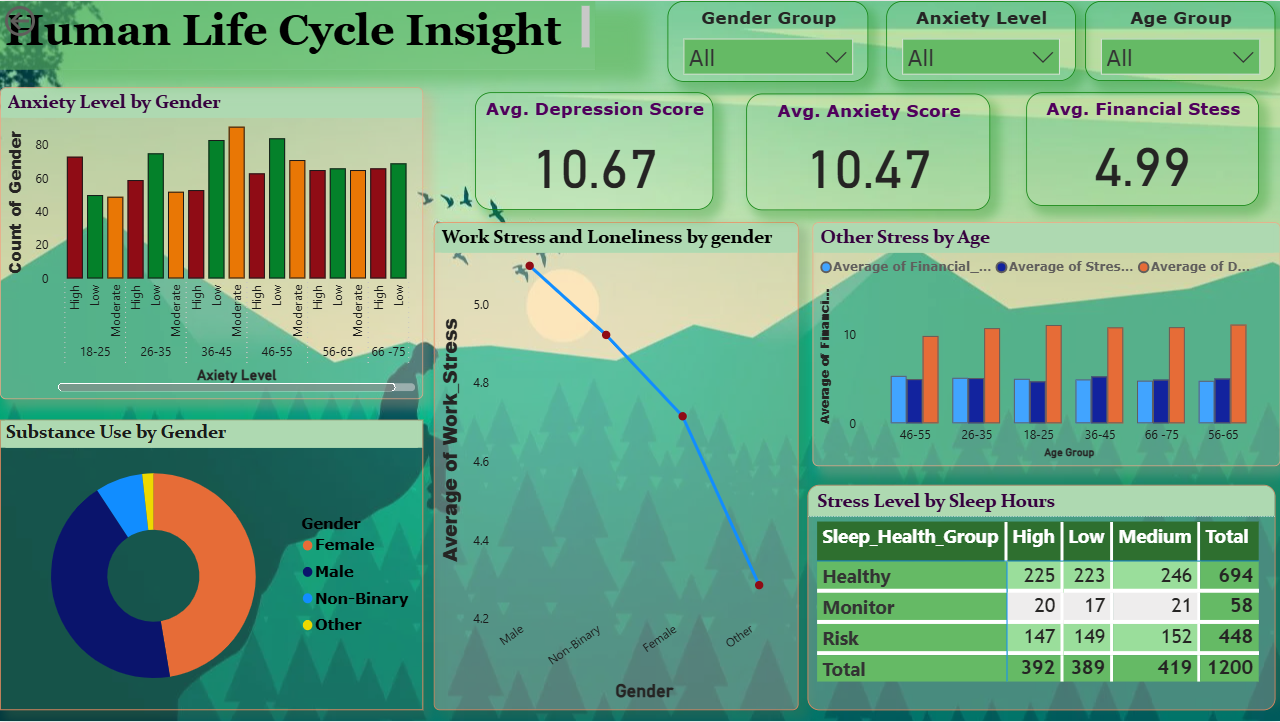

The page's visual inventory and layout, read from the dashboard file:
{"tool":"powerbi","page":{"name":"Overview","canvas":[1280,720],"ordinal":0},"visuals":[{"type":"lineChart","title":"Work Stress and Loneliness by gender","fields":{"Y":["Avg(anxiety_depression_data.Work_Stress)"],"Category":["anxiety_depression_data.Gender"]},"box":[433.3,221.6,364.6,488],"z":0},{"type":"card","title":"Avg. Anxiety Score","fields":{"Values":["Avg(anxiety_depression_data.Anxiety_Score)"]},"box":[746.6,92,244.3,117],"z":1000},{"type":"columnChart","title":"Anxiety Level by Gender","fields":{"Category":["anxiety_depression_data.Age Group ","anxiety_depression_data.Axiety Level "],"Y":["CountNonNull(anxiety_depression_data.Gender)"]},"box":[0,86.6,423.2,312],"z":2000},{"type":"pivotTable","title":" Stress Level by Sleep Hours","fields":{"Columns":["anxiety_depression_data.Stress_Level_Group"],"Values":["CountNonNull(anxiety_depression_data.Sleep_Hours)"],"Rows":["anxiety_depression_data.Sleep_Health_Group"]},"box":[807.7,483.8,468.4,225.8],"z":3000},{"type":"textbox","box":[0,0,594.8,69.1],"z":4000},{"type":"slicer","title":"Age Group","fields":{"Values":["anxiety_depression_data.Age Group "]},"box":[1085.4,0,190.7,79.9],"z":5000},{"type":"slicer","title":"Anxiety Level","fields":{"Values":["anxiety_depression_data.Axiety Level "]},"box":[886.2,0,189.3,79.9],"z":6000},{"type":"card","title":"Avg. Depression Score","fields":{"Values":["Avg(anxiety_depression_data.Depression_Score)"]},"box":[475.4,91.1,238.4,117.8],"z":8000},{"type":"card","title":"Avg. Financial Stess","fields":{"Values":["Avg(anxiety_depression_data.Financial_Stress)"]},"box":[1026.5,91.1,232.8,113.6],"z":9000},{"type":"donutChart","title":"Substance Use  by Gender ","fields":{"Category":["anxiety_depression_data.Gender"],"Y":["CountNonNull(anxiety_depression_data.Substance_Use)"]},"box":[0,419.3,423.5,290.3],"z":10000},{"type":"clusteredColumnChart","title":"Other Stress by Age","fields":{"Y":["Avg(anxiety_depression_data.Financial_Stress)","Avg(anxiety_depression_data.Stress_Level)","Avg(anxiety_depression_data.Depression_Score)"],"Category":["anxiety_depression_data.Age Group "]},"box":[811.9,221.6,468.4,244],"z":11000},{"type":"slicer","title":"Gender Group","fields":{"Values":["anxiety_depression_data.Gender"]},"box":[667,0,201.1,80.7],"z":12000},{"type":"actionButton","box":[0,0,100,40],"z":13000}]}

Visuals, with their boxes in screenshot pixels (x1, y1, x2, y2), scaled from the page's 1280x720 canvas onto the 1280x722 screenshot:
"Work Stress and Loneliness by gender" lineChart: (left=433, top=222, right=798, bottom=712)
"Avg. Anxiety Score" card: (left=747, top=92, right=991, bottom=210)
"Anxiety Level by Gender" columnChart: (left=0, top=87, right=423, bottom=400)
" Stress Level by Sleep Hours" pivotTable: (left=808, top=485, right=1276, bottom=712)
textbox: (left=0, top=0, right=595, bottom=69)
"Age Group" slicer: (left=1085, top=0, right=1276, bottom=80)
"Anxiety Level" slicer: (left=886, top=0, right=1076, bottom=80)
"Avg. Depression Score" card: (left=475, top=91, right=714, bottom=209)
"Avg. Financial Stess" card: (left=1026, top=91, right=1259, bottom=205)
"Substance Use  by Gender " donutChart: (left=0, top=420, right=424, bottom=712)
"Other Stress by Age" clusteredColumnChart: (left=812, top=222, right=1279, bottom=467)
"Gender Group" slicer: (left=667, top=0, right=868, bottom=81)
actionButton: (left=0, top=0, right=100, bottom=40)
